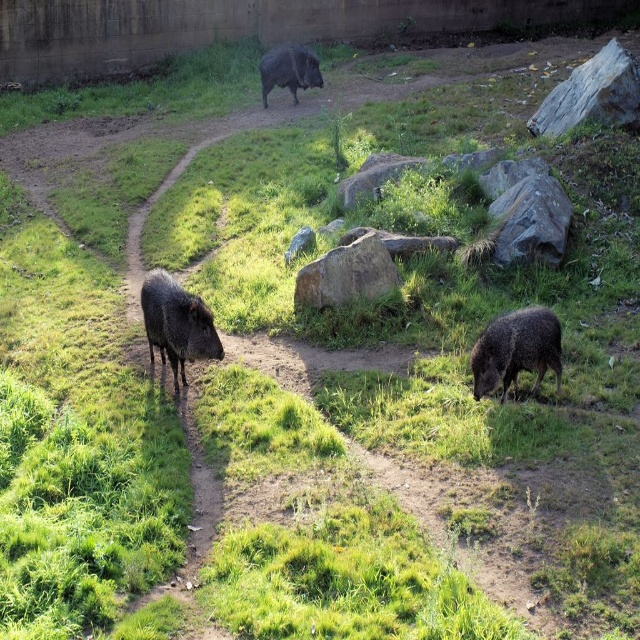Pig: (140, 265, 226, 393), (471, 303, 562, 406), (259, 43, 324, 108)
